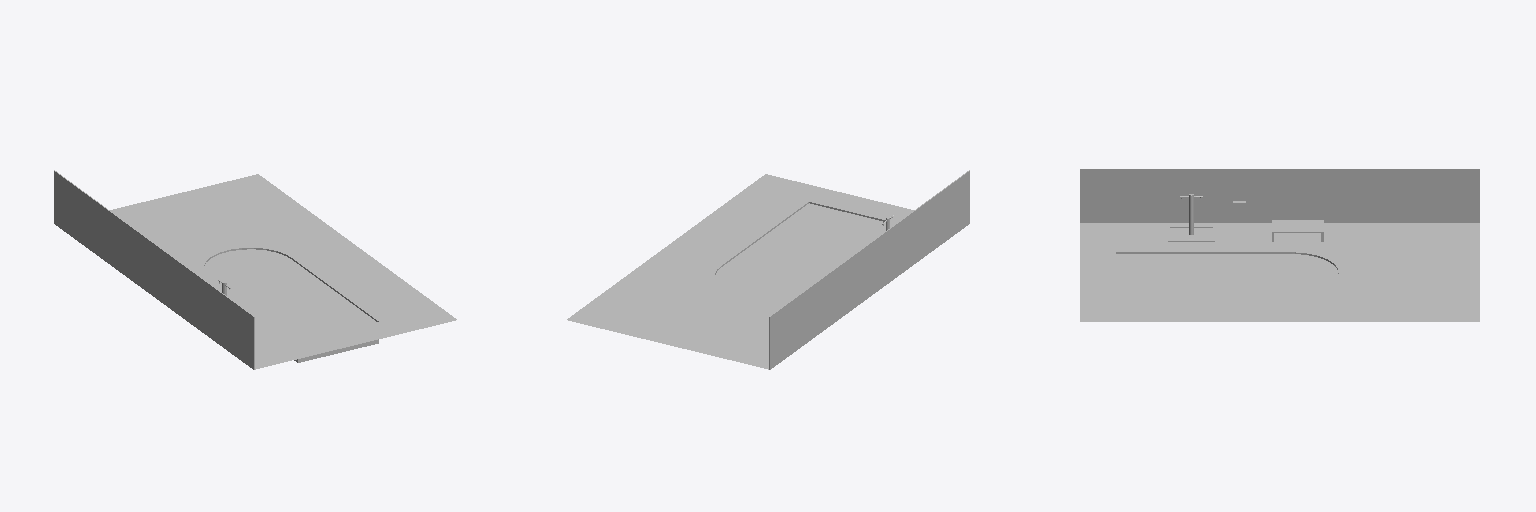
The model's file is pool.obj.
3 renders of one model, left to right at view 1: azimuth 30°, elevation 25°; view 2: azimuth 150°, elevation 25°; view 3: azimuth 270°, elevation 25°, orthographic.
Visible parts, largest first — view 1: Mesh1 Model; view 2: Mesh1 Model; view 3: Mesh1 Model.
Part boxes in pixels (bbox=[...]): Mesh1 Model: bbox=[54, 170, 456, 369]; Mesh1 Model: bbox=[567, 170, 969, 369]; Mesh1 Model: bbox=[1080, 169, 1479, 321].
Bounding box in the file's own units: 20.1 × 7 × 34.